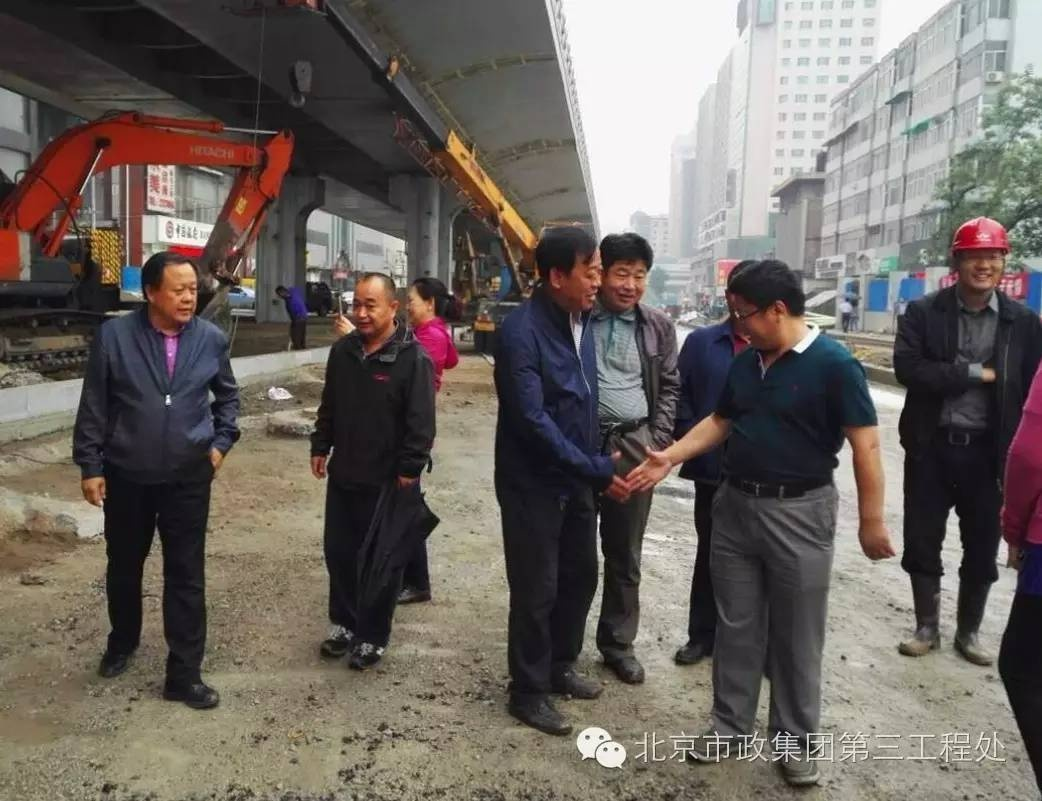none: (726, 256, 806, 349), (535, 222, 605, 314), (137, 245, 201, 326), (598, 232, 654, 309), (345, 268, 398, 338), (404, 275, 447, 326), (272, 281, 287, 300)
red: (947, 216, 1015, 296)
